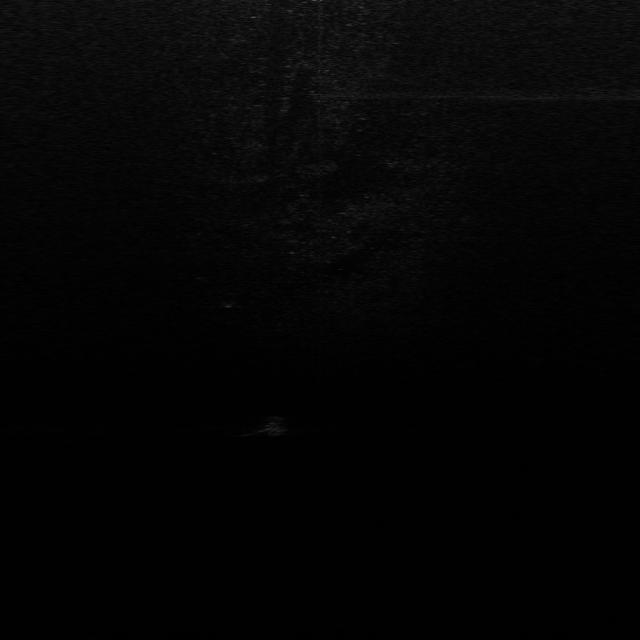ball: (257, 414, 289, 436)
circle cage: (219, 291, 243, 309)
